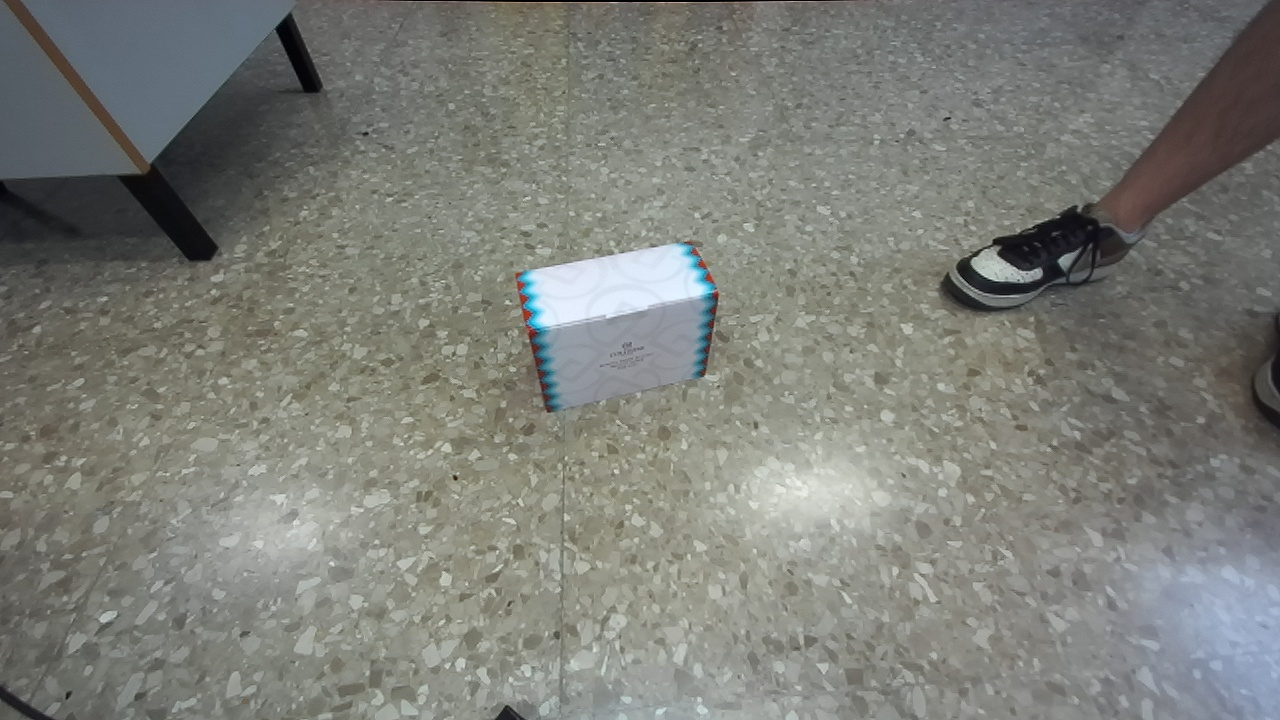caja_busbar: (517, 243, 718, 410)
